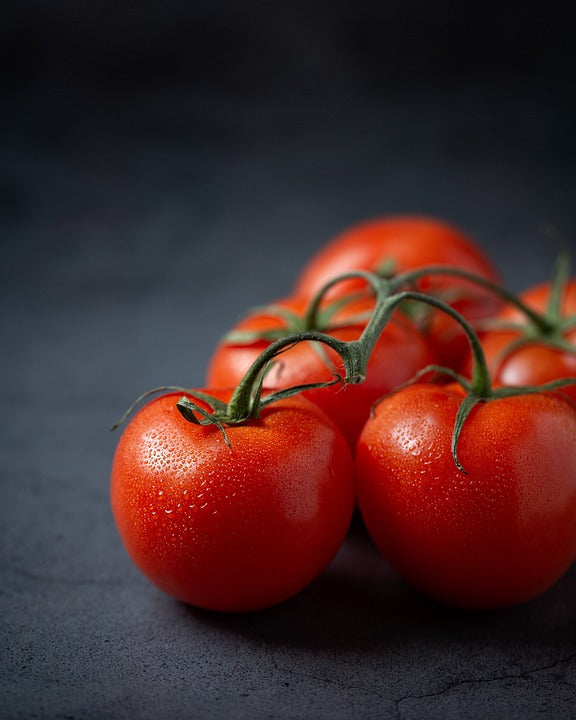tomato: (110, 216, 576, 614)
